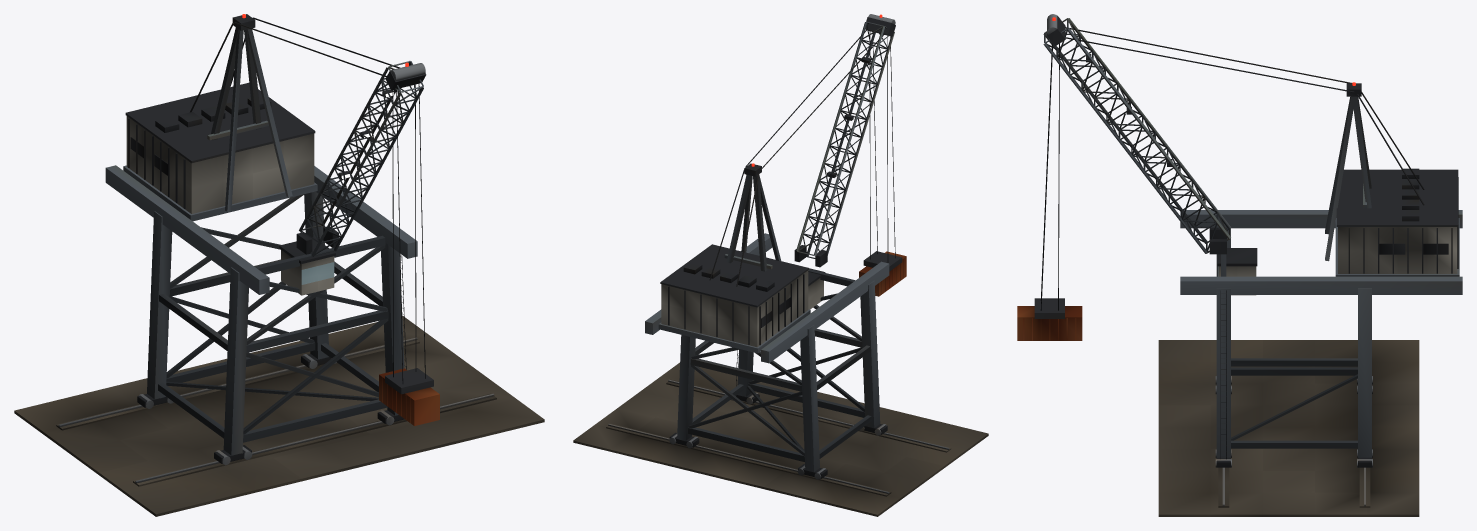
Rendered from crane.glb.
The picture shows the model from 3 angles, left to right: view 1: azimuth 30°, elevation 25°; view 2: azimuth 150°, elevation 25°; view 3: azimuth 270°, elevation 25°; orthographic projection. The views are drawn at different scales.
Visible parts, largest first — view 1: steel_beam, concrete_dark, metal_dark, paint, metal_bare, rust, paint2; view 2: concrete_dark, steel_beam, metal_dark, paint, metal_bare, rust; view 3: concrete_dark, steel_beam, metal_dark, paint, rust, metal_bare.
Part boxes in pixels (x1=…): steel_beam: x1=105, y1=27, x2=423, y2=455; concrete_dark: x1=14, y1=316, x2=544, y2=516; metal_dark: x1=125, y1=14, x2=433, y2=463; paint: x1=126, y1=116, x2=314, y2=213; metal_bare: x1=58, y1=63, x2=494, y2=483; rust: x1=379, y1=368, x2=439, y2=425; paint2: x1=281, y1=250, x2=334, y2=295; concrete_dark: x1=573, y1=362, x2=988, y2=516; steel_beam: x1=645, y1=21, x2=894, y2=472; metal_dark: x1=660, y1=17, x2=902, y2=478; paint: x1=661, y1=270, x2=808, y2=347; metal_bare: x1=608, y1=14, x2=949, y2=493; rust: x1=859, y1=251, x2=906, y2=296; concrete_dark: x1=1158, y1=340, x2=1419, y2=516; steel_beam: x1=1043, y1=18, x2=1462, y2=457; metal_dark: x1=1034, y1=15, x2=1458, y2=467; paint: x1=1338, y1=227, x2=1457, y2=273; rust: x1=1017, y1=306, x2=1082, y2=340; metal_bare: x1=1047, y1=14, x2=1372, y2=506.
Size of what is drawn, in the model's own units: 38 by 41.82 by 41.01.
